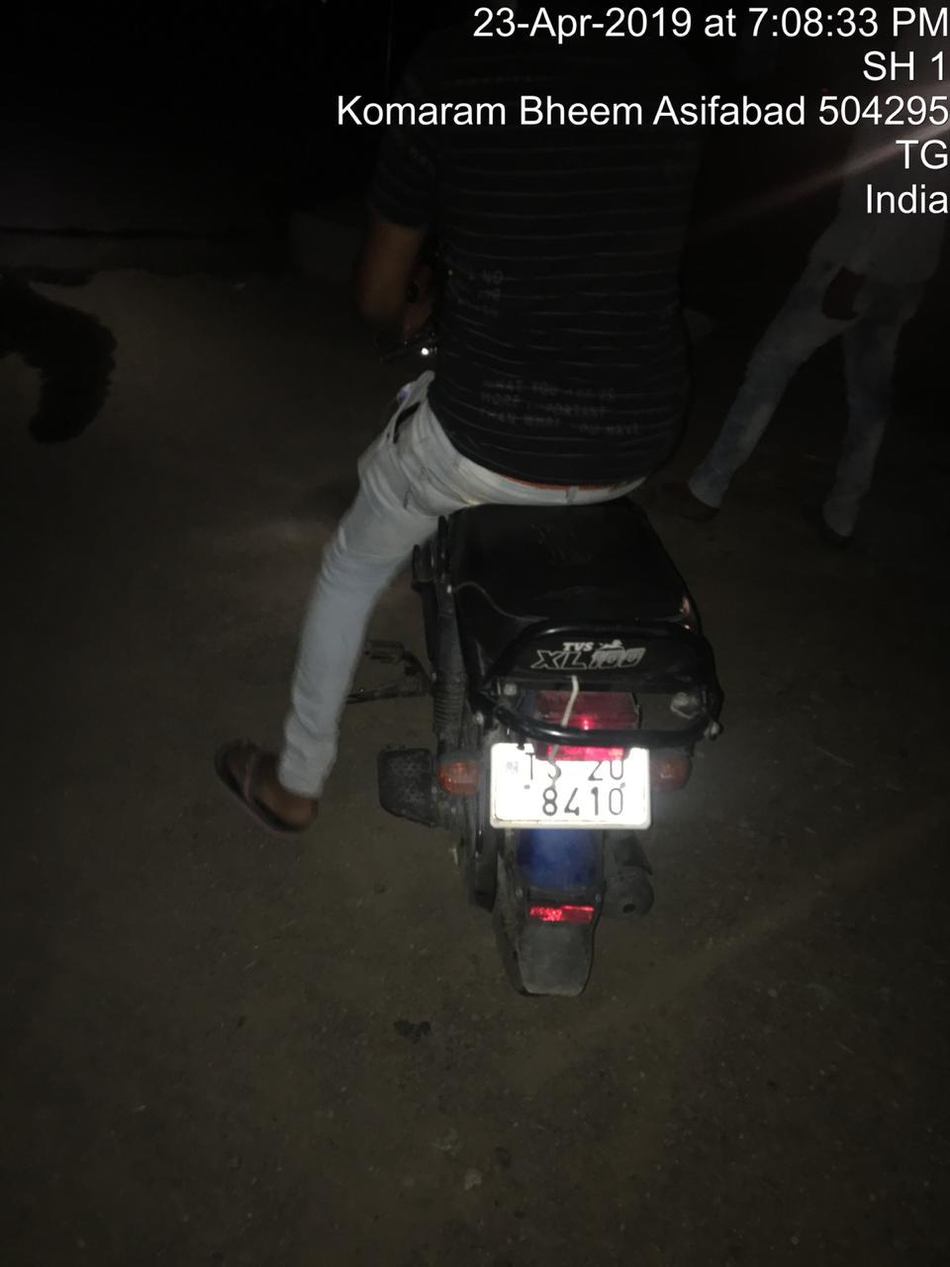plate: (459, 733, 676, 864)
